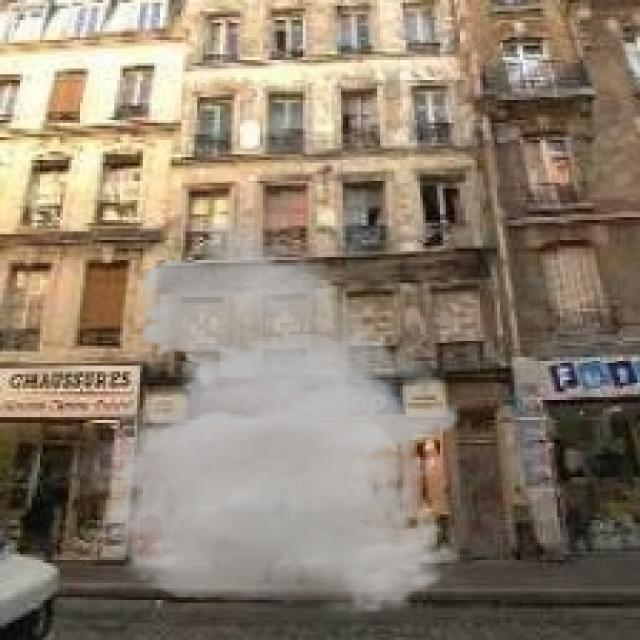smoke: (51, 209, 463, 614)
